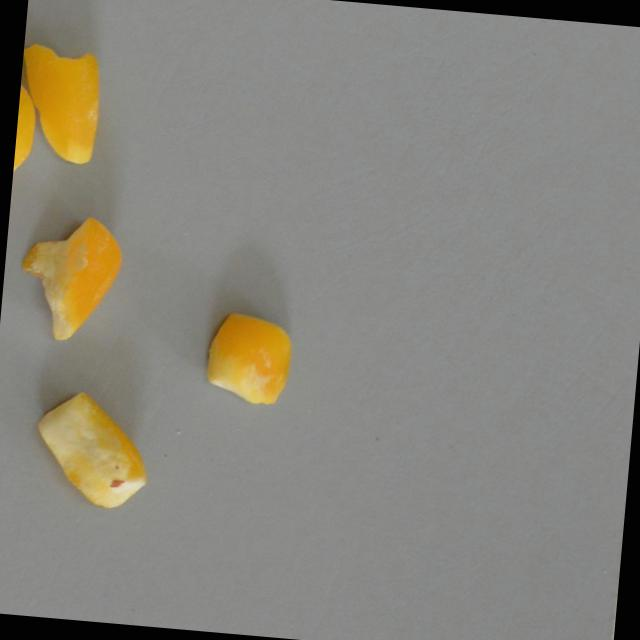dañado: (28, 387, 153, 511), (11, 80, 39, 180)
pelicula: (16, 209, 126, 347), (13, 39, 106, 168), (203, 307, 295, 406)
